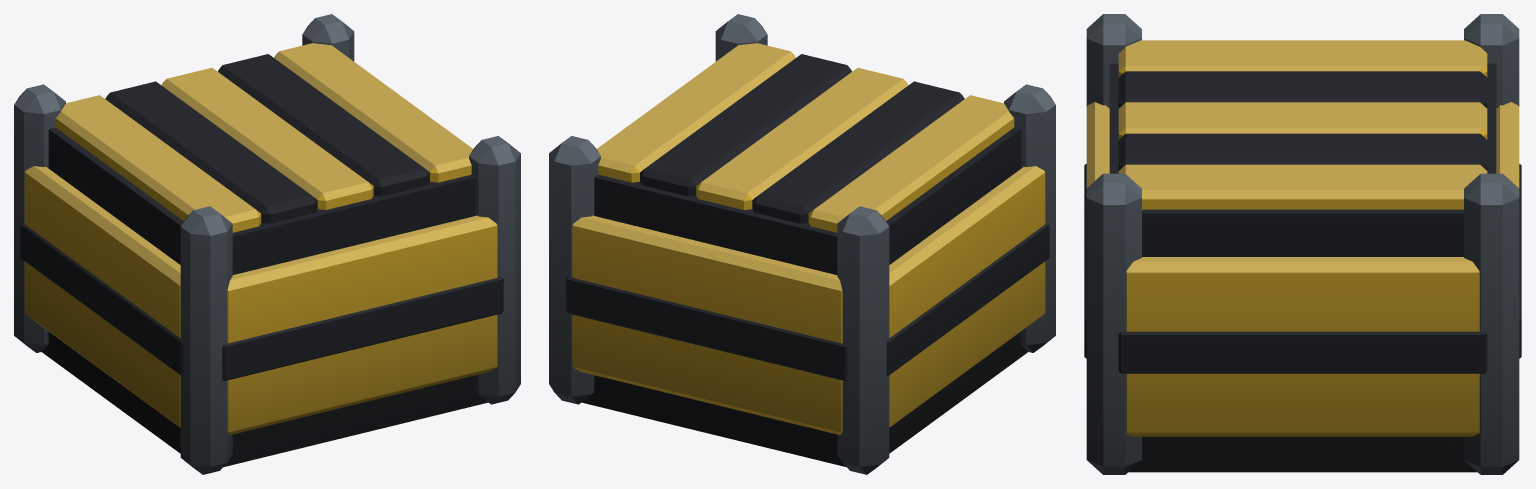
Rendered from barrier.glb.
3 renders of one model, left to right at view 1: azimuth 30°, elevation 25°; view 2: azimuth 150°, elevation 25°; view 3: azimuth 270°, elevation 25°, orthographic. The views are drawn at different scales.
Visible parts, largest first — view 1: mesh_barrier; view 2: mesh_barrier; view 3: mesh_barrier.
Boxes of the visible parts, bbox=[...] form: mesh_barrier: bbox=[14, 14, 520, 474]; mesh_barrier: bbox=[549, 14, 1055, 474]; mesh_barrier: bbox=[1084, 14, 1521, 474].
Size of the model in its own units: 0.95 by 0.7 by 0.95.
